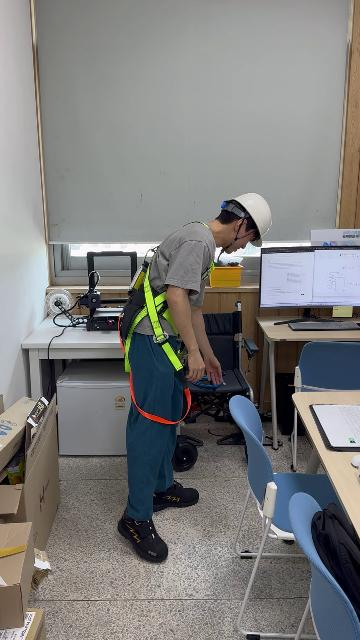helmet_worn: (220, 192, 273, 248)
shoe_worn: (117, 507, 168, 562), (153, 481, 198, 509)
vest_worn: (118, 238, 204, 413)
